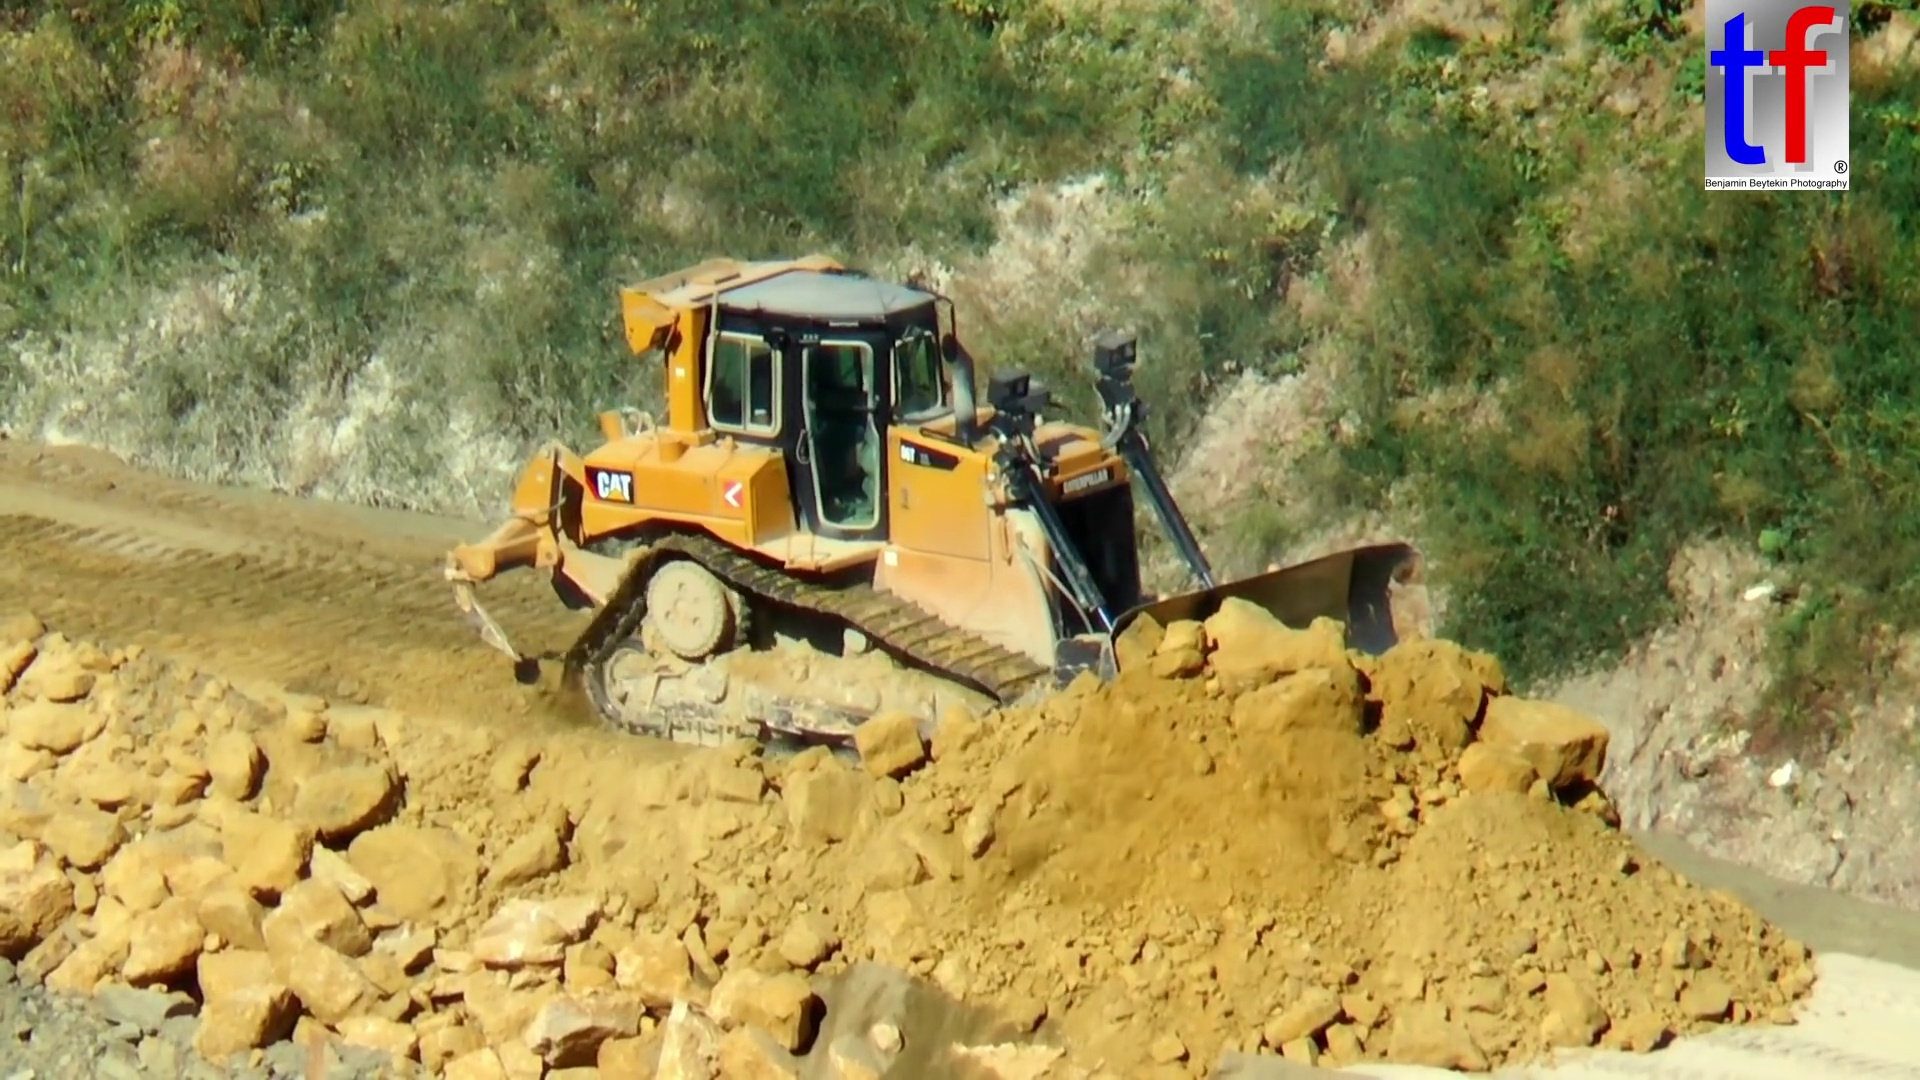bulldozer: (448, 255, 1451, 793)
